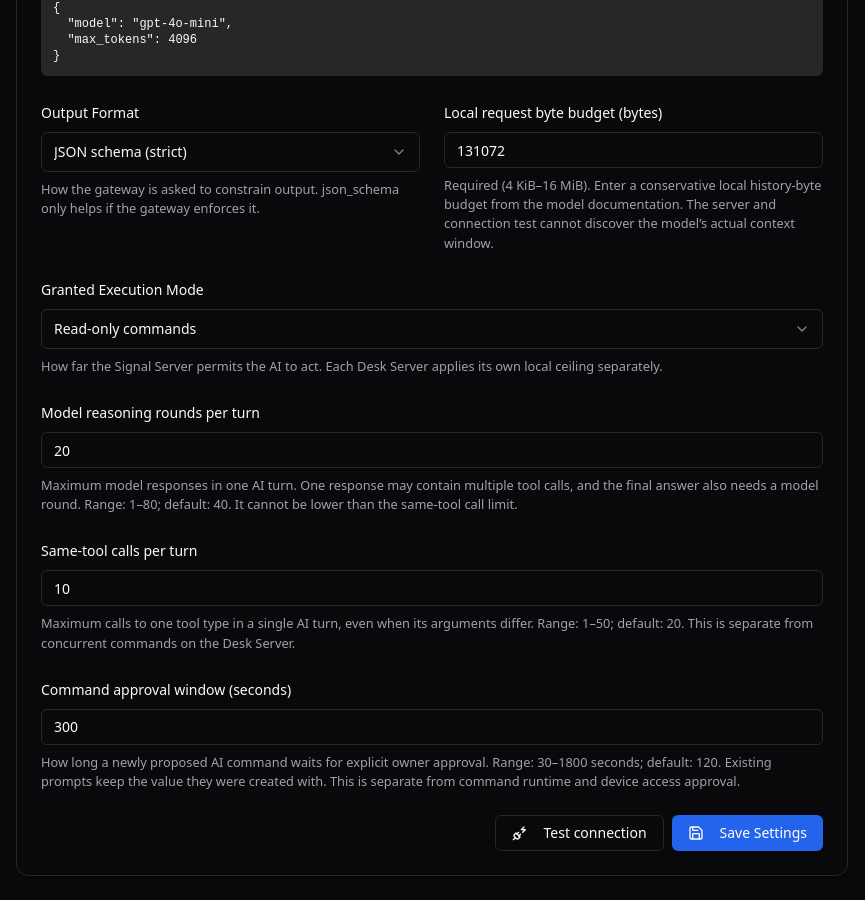
Scenario: AiModelSettings › rejects a reasoning-round limit below the same-tool limit
(page scrolled)
Replace the text in the number field labelled "Model reasoning rounds per turn" with "9" at (432, 450), box [41,432,823,468]
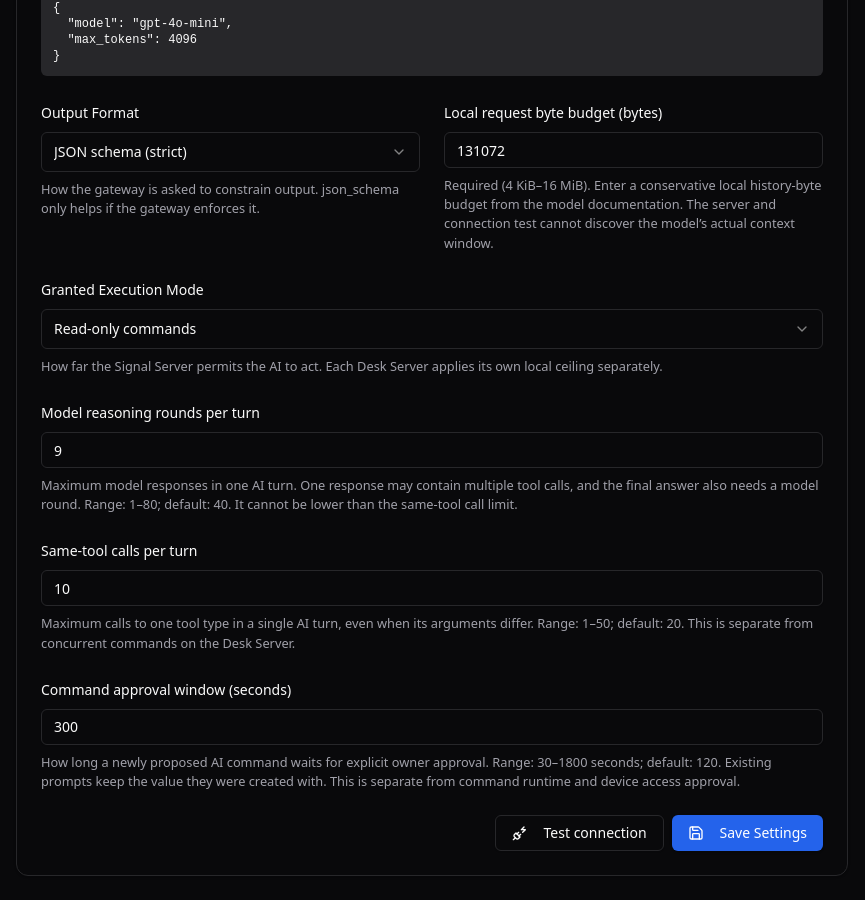
Click the button "Save Settings" at (747, 833), box [672,815,823,851]
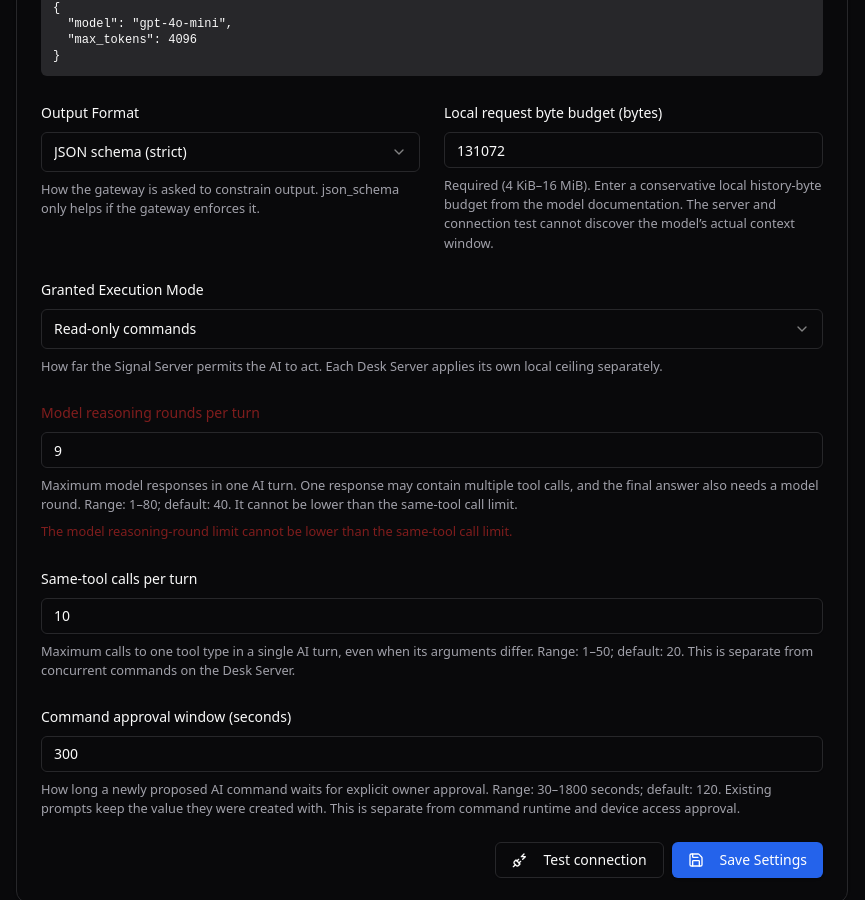
Expected: the text "The model reasoning-round limit cannot be lower than the same-tool call limit." is shown, [41,522,512,540]
